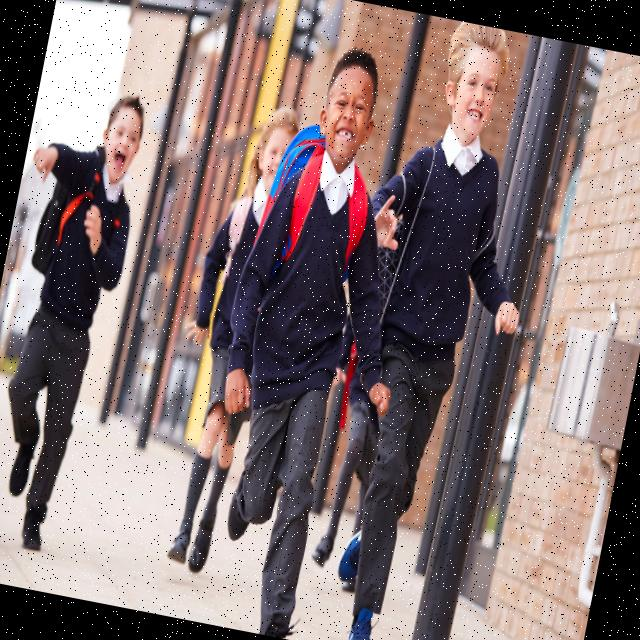Person: (287, 11, 572, 640), (173, 34, 454, 640), (142, 96, 326, 582), (0, 78, 155, 555)
